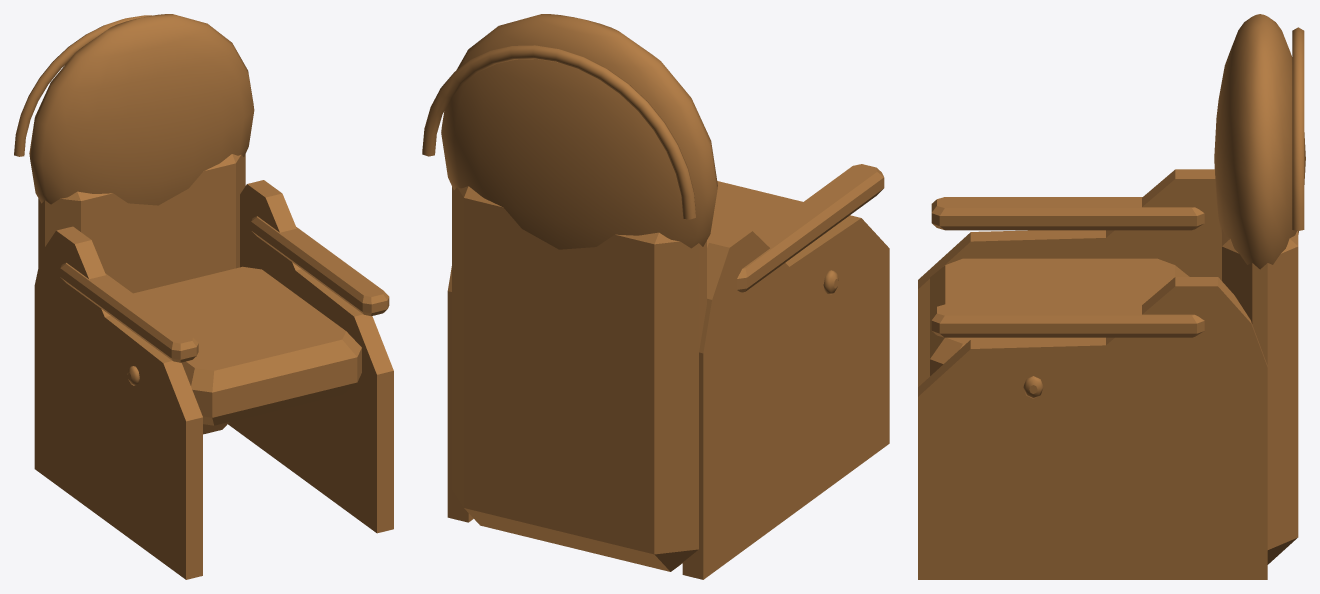
The model's file is SM_Menu_AuditoriumSeat.fbx.
3 views of the same model, side by side, from view 1: azimuth 30°, elevation 25°; view 2: azimuth 150°, elevation 25°; view 3: azimuth 270°, elevation 25° (orthographic). The views are drawn at different scales.
Parts seen in each view (by area): view 1: SM_Menu_AuditoriumSeat; view 2: SM_Menu_AuditoriumSeat; view 3: SM_Menu_AuditoriumSeat.
Part boxes in pixels (left/top/right/bottom): SM_Menu_AuditoriumSeat: left=14, top=14, right=393, bottom=579; SM_Menu_AuditoriumSeat: left=422, top=14, right=889, bottom=579; SM_Menu_AuditoriumSeat: left=918, top=14, right=1305, bottom=579.
Size of the model in its own units: 78 by 102 by 143.
